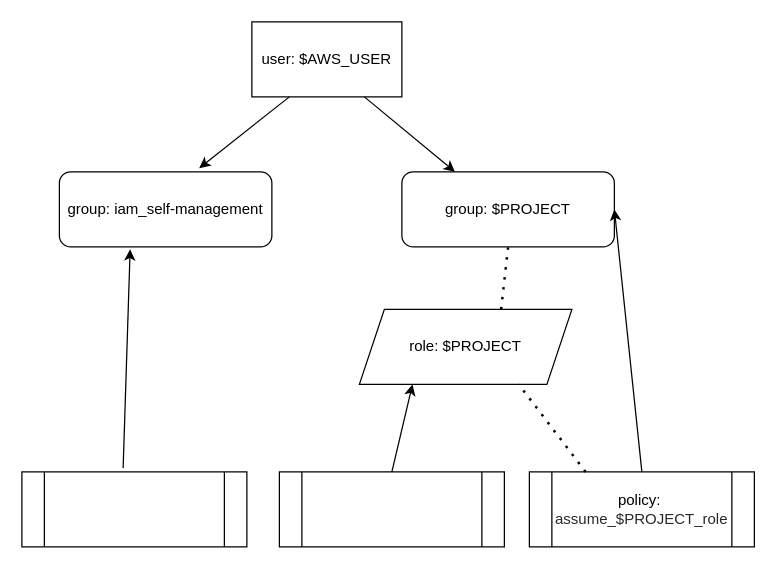
Image size: 776x569. Some labels were removed from this diagram. The centre of each missing label's shape, as x and y in pixels:
"policy: $PROJECT_management" goes at point 391,509.
"policy: iam-self_management" goes at point 134,509.
